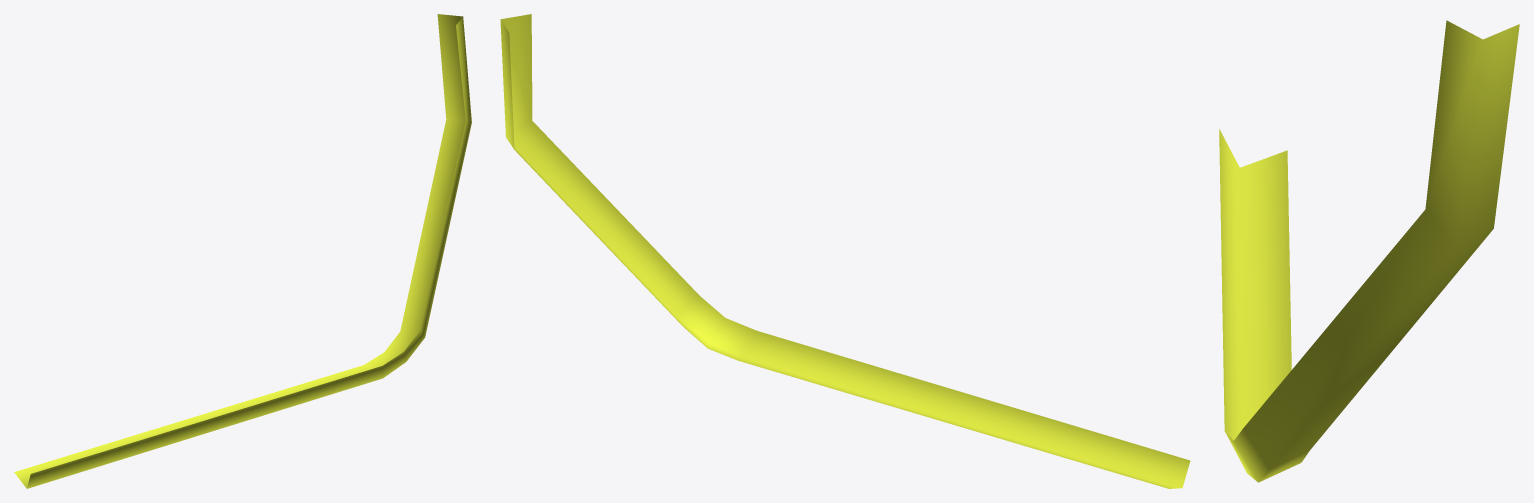
The model's file is b_polySurface603_b_BMW_i8Elite_2017CalliperGloss_Material1_0.glb.
3 views of the same model, side by side, from view 1: azimuth 30°, elevation 25°; view 2: azimuth 150°, elevation 25°; view 3: azimuth 270°, elevation 25° (orthographic). The views are drawn at different scales.
Visible parts, largest first — view 1: b:polySurface603_b:BMW_i8Elite_2017CalliperGloss_Material1_0; view 2: b:polySurface603_b:BMW_i8Elite_2017CalliperGloss_Material1_0; view 3: b:polySurface603_b:BMW_i8Elite_2017CalliperGloss_Material1_0.
Part boxes in pixels (x1=…): b:polySurface603_b:BMW_i8Elite_2017CalliperGloss_Material1_0: x1=14, y1=14, x2=471, y2=488; b:polySurface603_b:BMW_i8Elite_2017CalliperGloss_Material1_0: x1=500, y1=14, x2=1190, y2=488; b:polySurface603_b:BMW_i8Elite_2017CalliperGloss_Material1_0: x1=1219, y1=20, x2=1519, y2=482.
Size of the model in its own units: 0.0782 by 0.046 by 0.0203.
